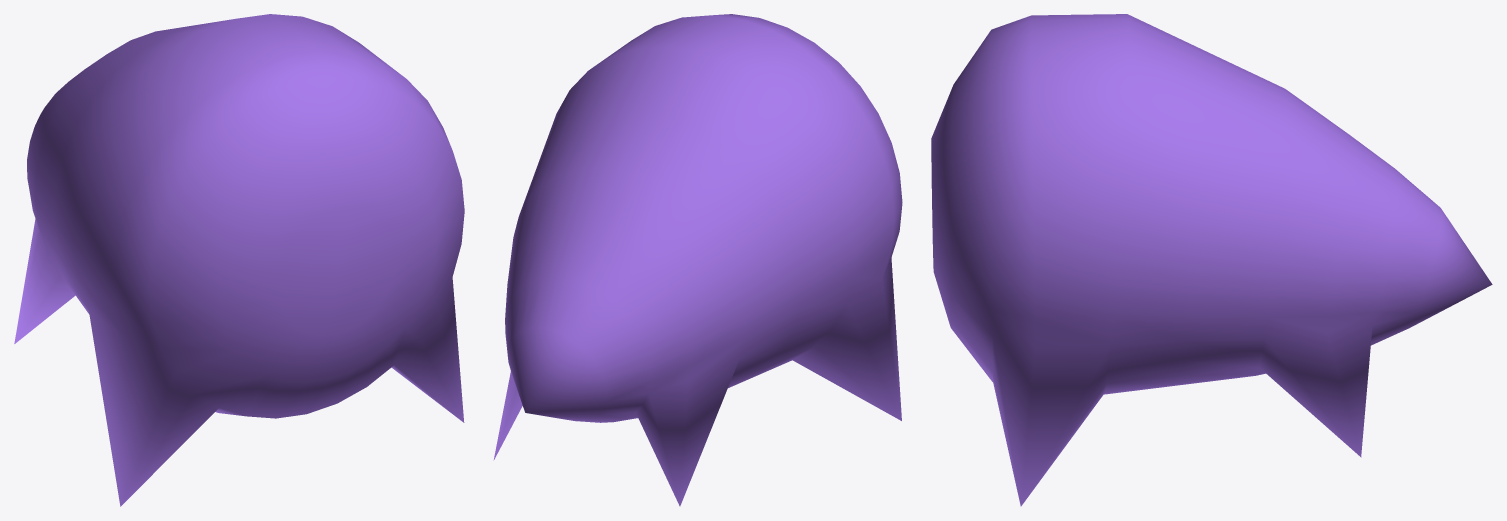
The model's file is conical-creature2.glb.
The picture shows the model from 3 angles, left to right: view 1: azimuth 30°, elevation 25°; view 2: azimuth 150°, elevation 25°; view 3: azimuth 270°, elevation 25°; orthographic projection. The views are drawn at different scales.
Visible parts, largest first — view 1: Cone; view 2: Cone; view 3: Cone.
Boxes of the visible parts, x1=… form: Cone: x1=14, y1=14, x2=464, y2=506; Cone: x1=493, y1=14, x2=902, y2=506; Cone: x1=931, y1=14, x2=1492, y2=506.
Bounding box in the file's own units: 2.02 × 2.28 × 2.94.
